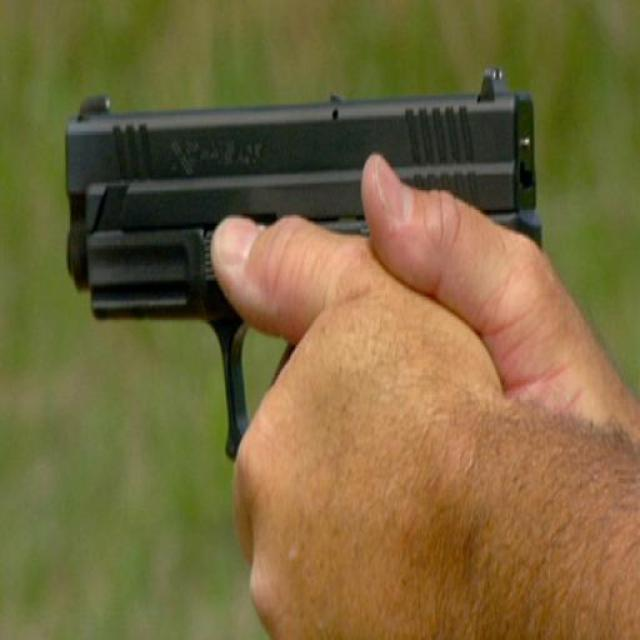pistol: (57, 47, 546, 511)
